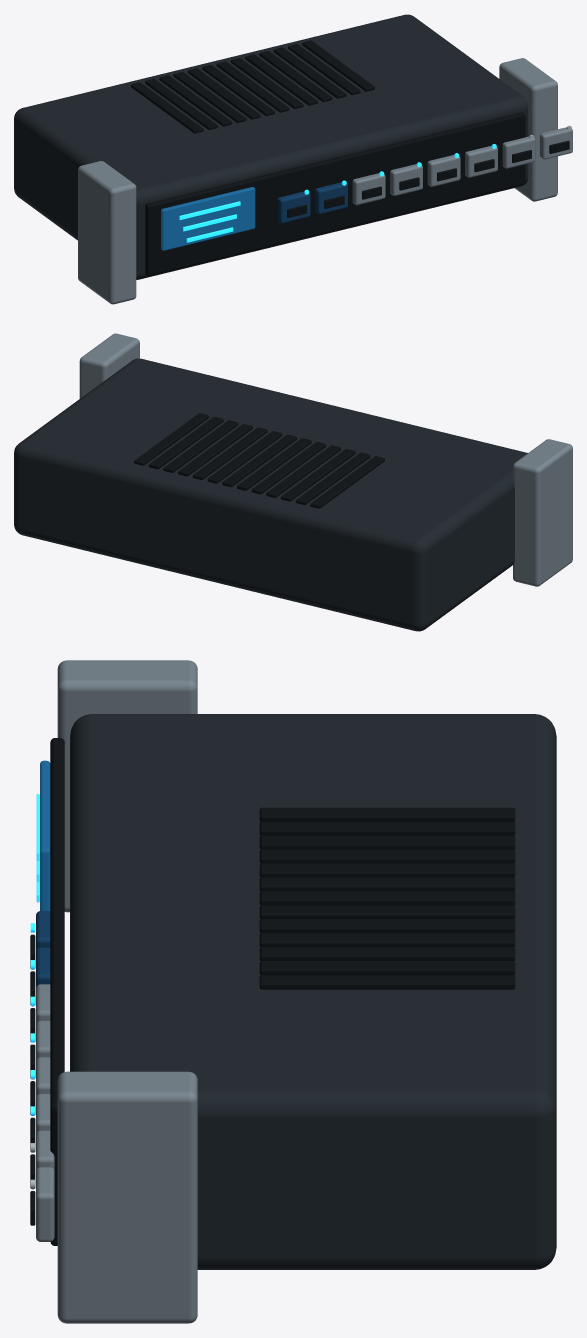
Rendered from firewall-appliance.glb.
3 renders of one model, top to bottom at view 1: azimuth 30°, elevation 25°; view 2: azimuth 150°, elevation 25°; view 3: azimuth 270°, elevation 25°, orthographic. The views are drawn at different scales.
Visible parts, largest first — view 1: 1U firewall chassis, Firewall front panel, Rack ear (×2), Firewall cooling vent (×13), Security status display, Premium next-generation firewall appliance, Firewall network port 8, Firewall network port 3, Firewall network port 1, Firewall network port 7, Firewall network port 5, Firewall network port 2 (+2 smaller); view 2: 1U firewall chassis, Firewall cooling vent (×13), Rack ear (×2); view 3: 1U firewall chassis, Firewall cooling vent (×13), Rack ear (×2), Firewall front panel, Premium next-generation firewall appliance, Security status display, Firewall network port 8.
Part boxes in pixels (box(x1,y1,x2,y2)): 1U firewall chassis: box(14, 14, 528, 279); Firewall front panel: box(145, 112, 525, 275); Rack ear (×2): box(78, 58, 557, 304); Firewall cooling vent (×13): box(131, 40, 374, 133); Security status display: box(161, 187, 255, 250); Premium next-generation firewall appliance: box(179, 125, 571, 242); Firewall network port 8: box(539, 127, 572, 159); Firewall network port 3: box(352, 173, 385, 205); Firewall network port 1: box(277, 191, 310, 223); Firewall network port 7: box(502, 136, 535, 168); Firewall network port 5: box(427, 155, 460, 186); Firewall network port 2: box(315, 182, 347, 214); 1U firewall chassis: box(14, 358, 527, 631); Firewall cooling vent (×13): box(134, 413, 384, 508); Rack ear (×2): box(79, 333, 572, 586); 1U firewall chassis: box(70, 714, 556, 1269); Firewall cooling vent (×13): box(259, 807, 515, 989); Rack ear (×2): box(57, 660, 197, 1323); Firewall front panel: box(50, 738, 64, 1245); Premium next-generation firewall appliance: box(30, 794, 39, 1225); Security status display: box(40, 760, 50, 910); Firewall network port 8: box(36, 1167, 54, 1241).
Size of the model in its own units: 2.56 by 0.62 by 1.28.
